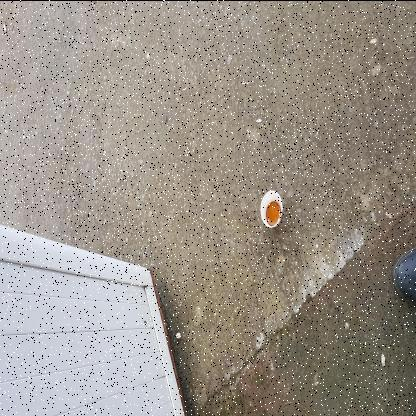cardboard: (189, 260, 228, 283)
